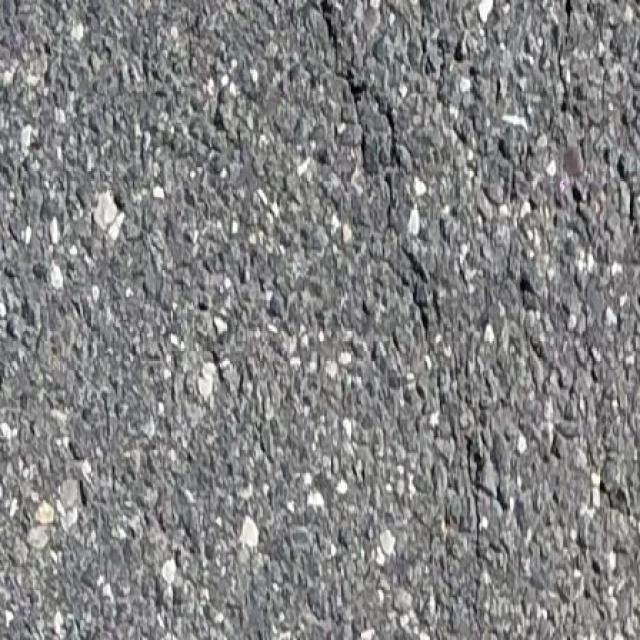Vertical Crack: (315, 0, 510, 640)
